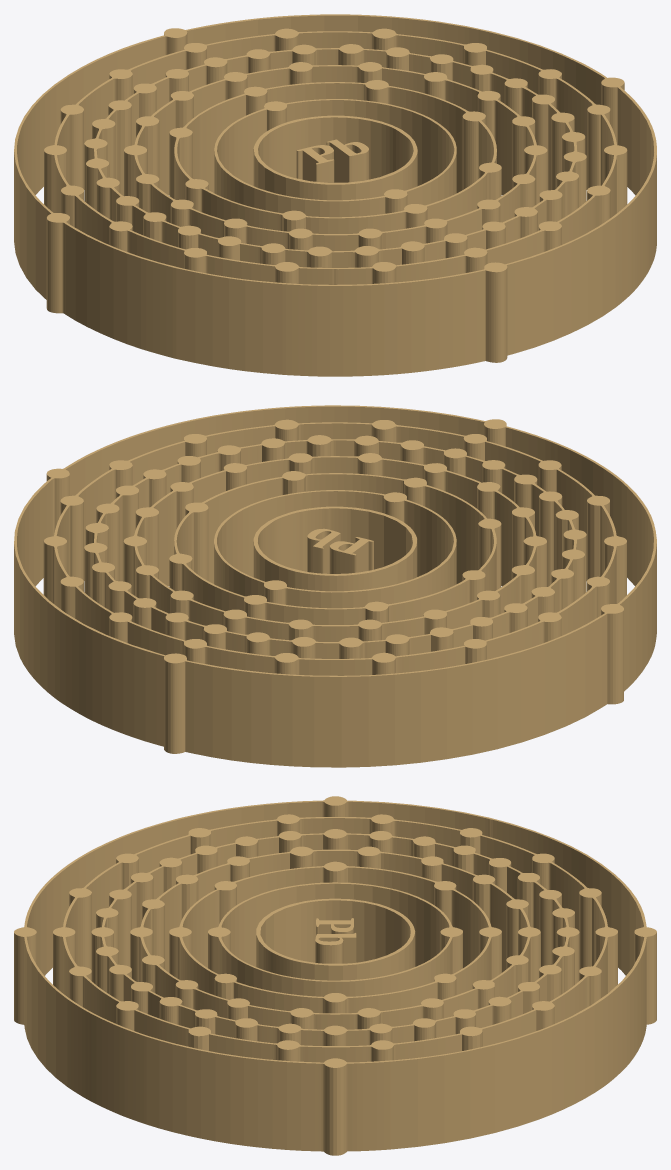
Rendered from lead.gltf.
The picture shows the model from 3 angles, top to bottom: view 1: azimuth 30°, elevation 25°; view 2: azimuth 150°, elevation 25°; view 3: azimuth 270°, elevation 25°; orthographic projection. The views are drawn at different scales.
Visible parts, largest first — view 1: Mesh_Mesh_head_geo.001_lambert2SG.001; view 2: Mesh_Mesh_head_geo.001_lambert2SG.001; view 3: Mesh_Mesh_head_geo.001_lambert2SG.001.
Part boxes in pixels (x1=…): Mesh_Mesh_head_geo.001_lambert2SG.001: x1=14, y1=14, x2=656, y2=376; Mesh_Mesh_head_geo.001_lambert2SG.001: x1=14, y1=405, x2=656, y2=767; Mesh_Mesh_head_geo.001_lambert2SG.001: x1=14, y1=796, x2=656, y2=1155.
Bounding box in the file's own units: 66.34 × 10 × 66.34.
